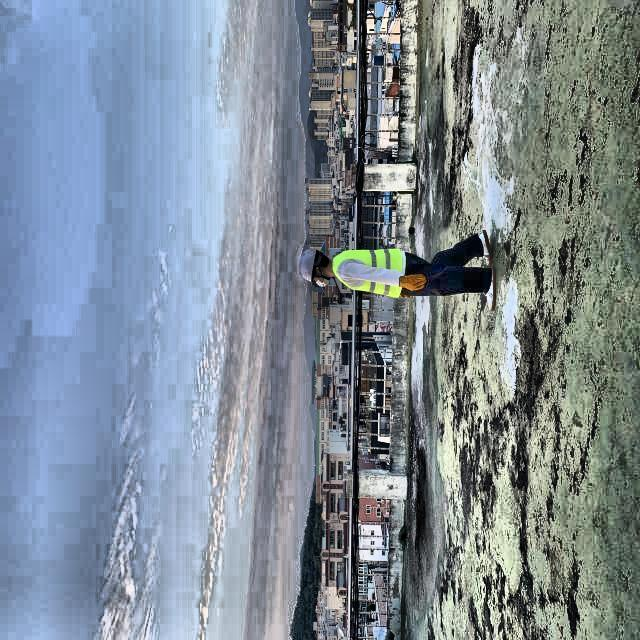safety_jacket: (331, 247, 406, 302)
